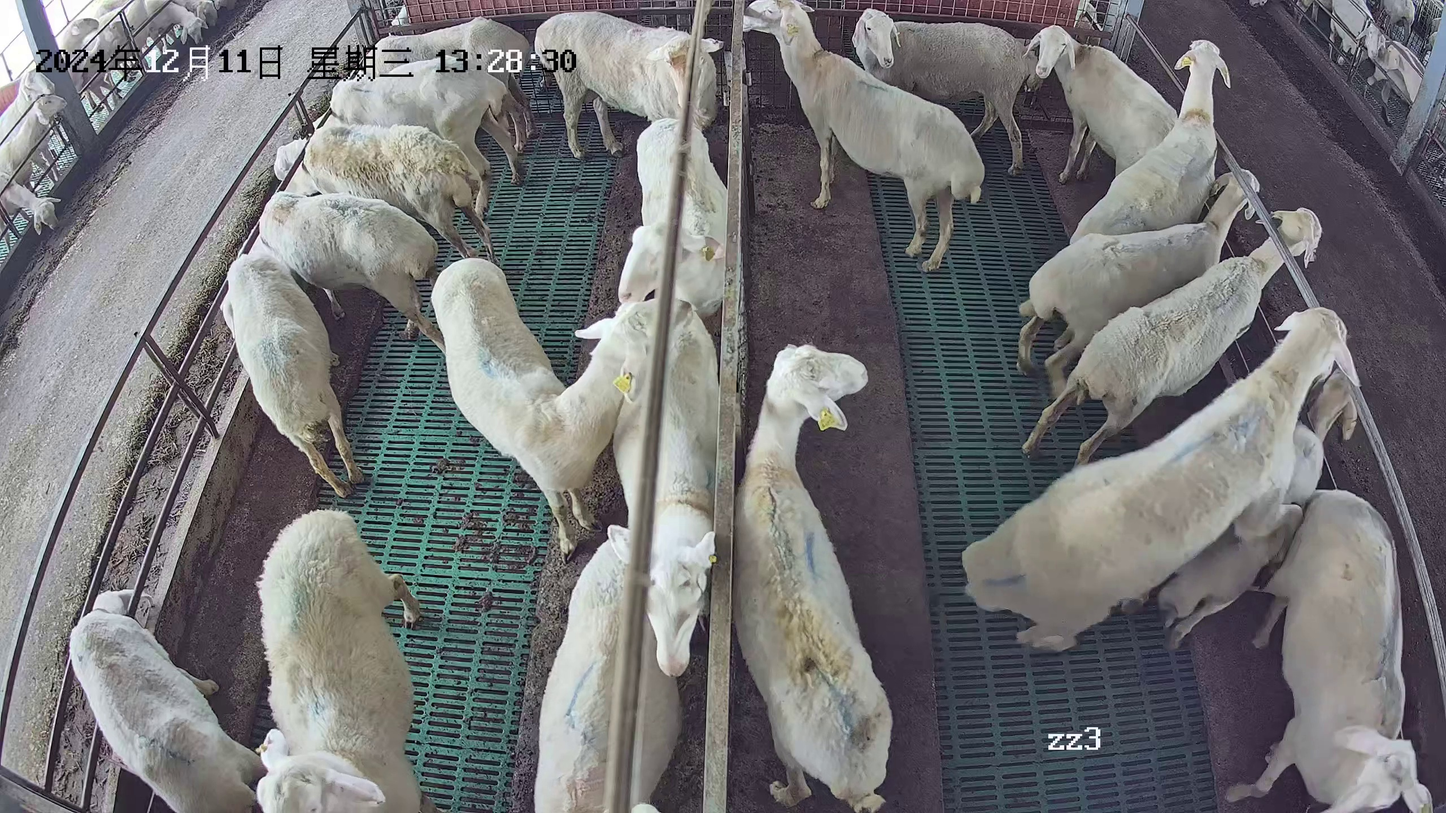Smounting: (960, 305, 1361, 653)
mounted: (1118, 366, 1358, 648)
